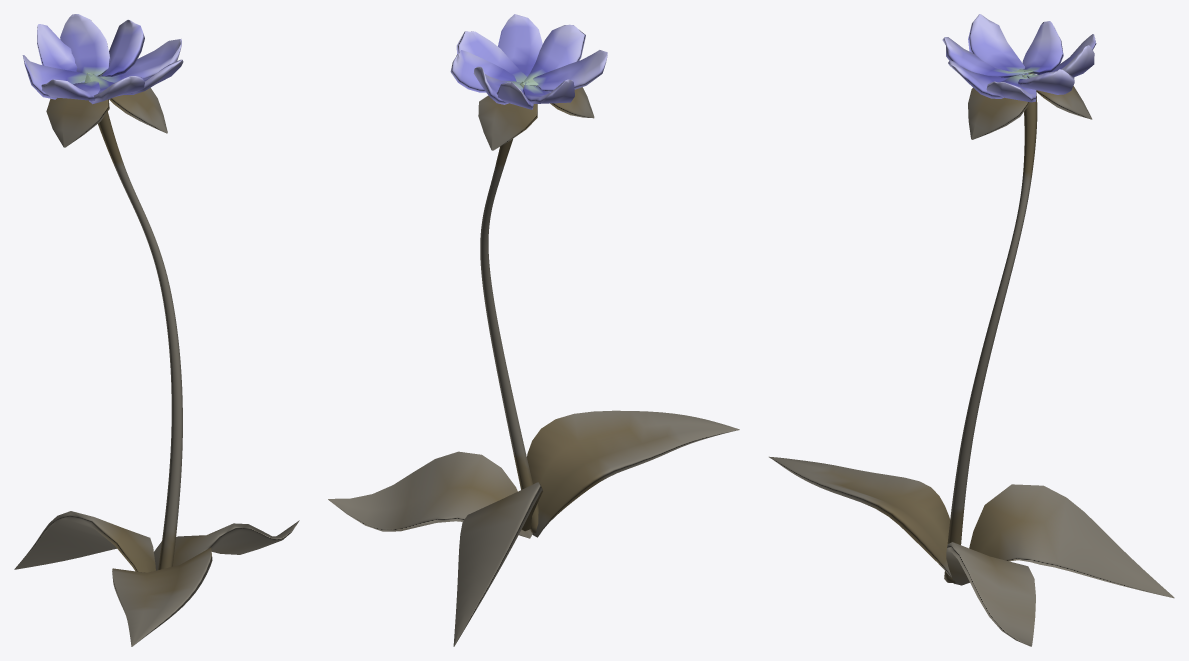
Rendered from flower03.obj.
3 renders of one model, left to right at view 1: azimuth 30°, elevation 25°; view 2: azimuth 150°, elevation 25°; view 3: azimuth 270°, elevation 25°, orthographic. The views are drawn at different scales.
Parts seen in each view (by area): view 1: Tube_11; view 2: Tube_11; view 3: Tube_11.
Boxes of the visible parts, x1=… form: Tube_11: x1=14, y1=14, x2=299, y2=646; Tube_11: x1=328, y1=14, x2=739, y2=646; Tube_11: x1=769, y1=14, x2=1174, y2=646.
Size of the model in its own units: 1.1 by 2.01 by 1.32.
1 material, 1 textured.
